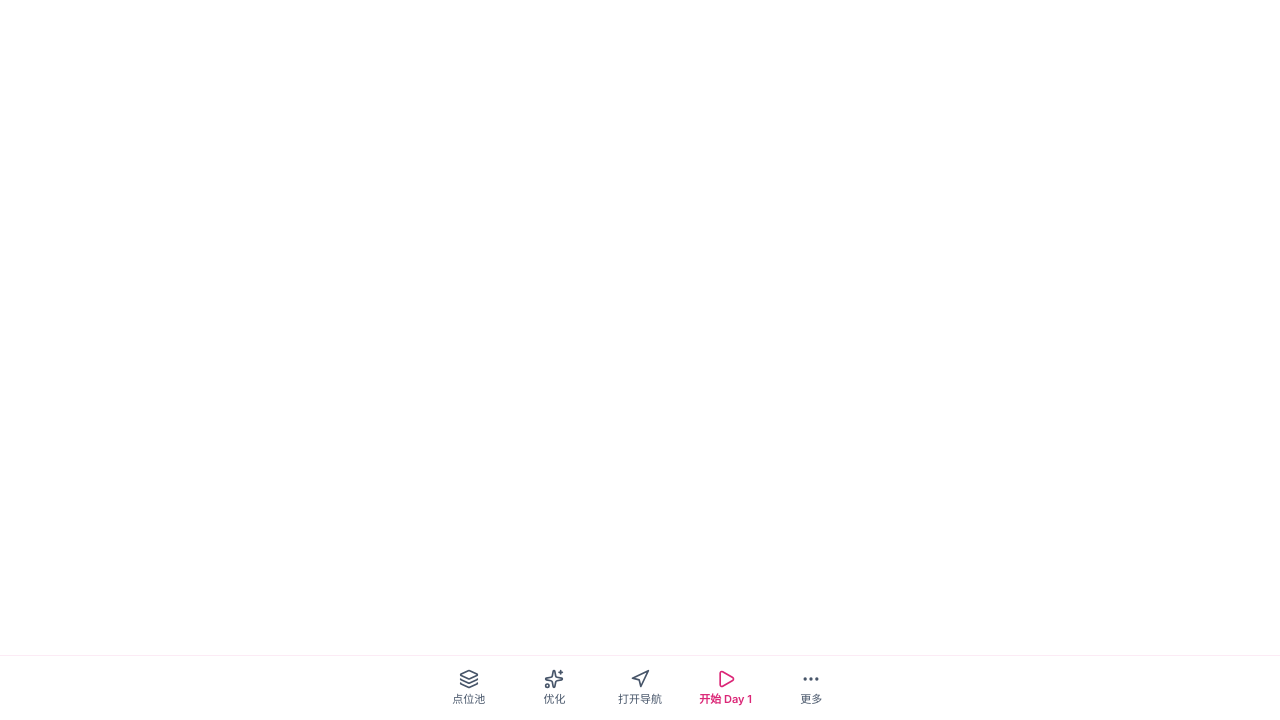
MobileDock 更多：导出 › 无日期行程 ICS 不可点并提示；未选天不给当天 GPX
Click the button "更多": (811, 688) top-left (770, 664), bottom-right (852, 712)
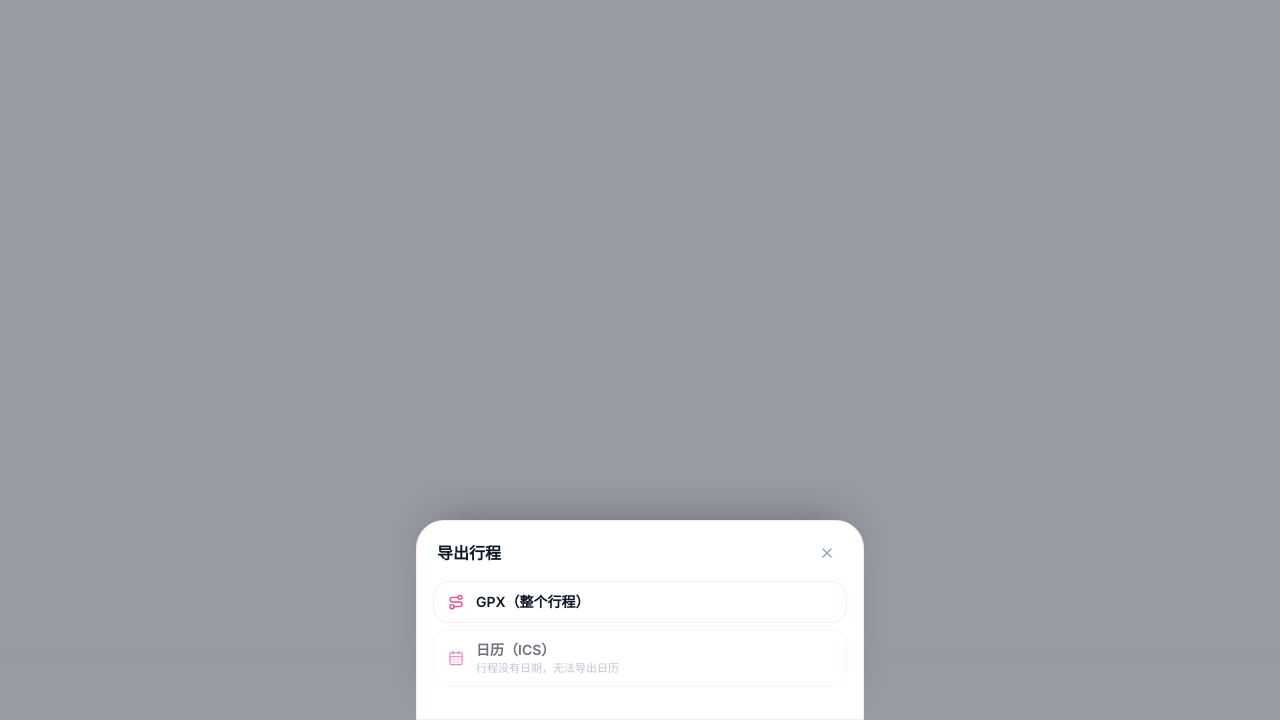
Result: the text "行程没有日期，无法导出日历" is shown at top-left (476, 660), bottom-right (619, 674)
